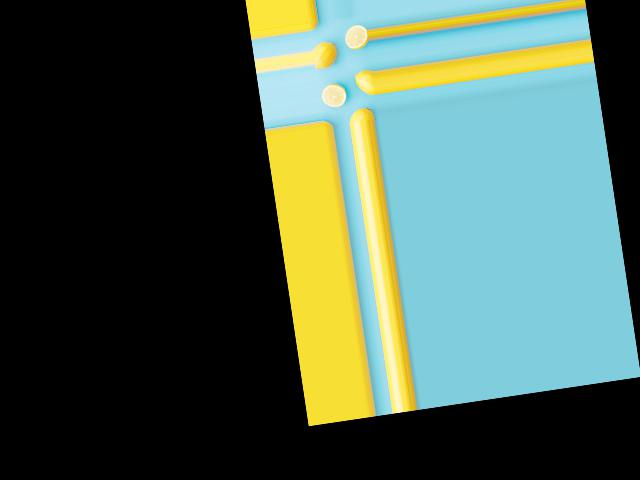lemon: (345, 105, 372, 124)
